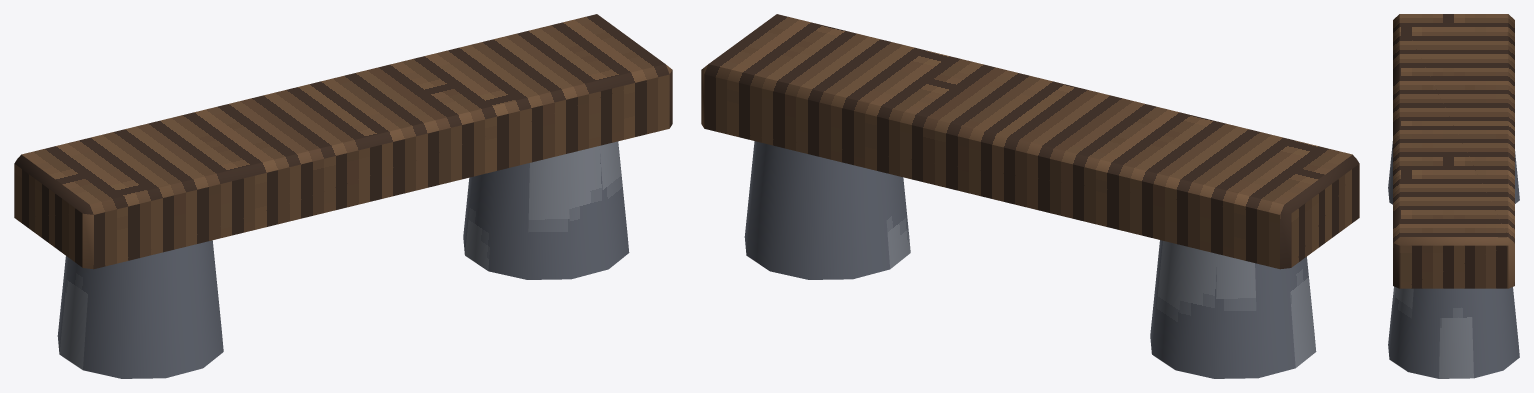
The model's file is bench_2.glb.
3 renders of one model, left to right at view 1: azimuth 30°, elevation 25°; view 2: azimuth 150°, elevation 25°; view 3: azimuth 270°, elevation 25°, orthographic. The views are drawn at different scales.
Parts seen in each view (by area): view 1: bench_3; view 2: bench_3; view 3: bench_3.
Boxes of the visible parts, bbox=[...] form: bench_3: bbox=[14, 14, 672, 378]; bench_3: bbox=[701, 14, 1359, 378]; bench_3: bbox=[1388, 14, 1519, 378].
Size of the model in its own units: 1.6 by 0.48 by 0.39.
Materials: 2 (2 with a texture image).
